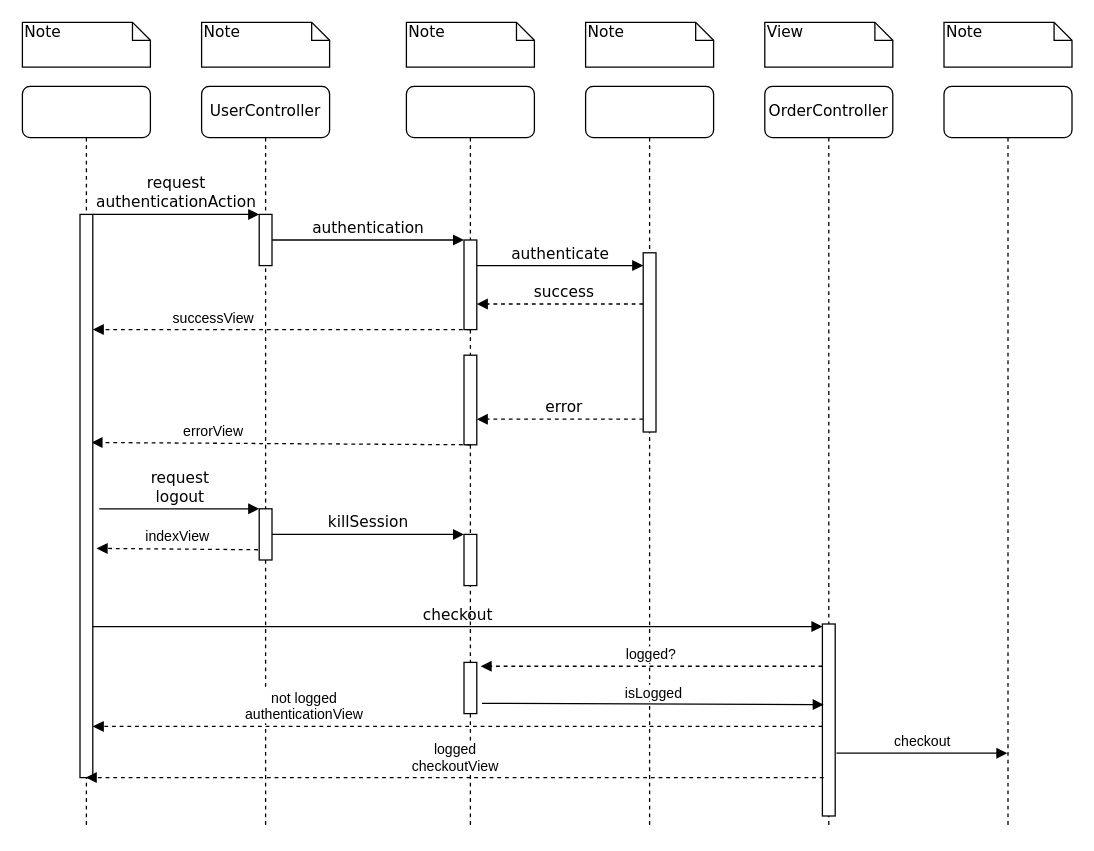
Image size: 1094x851. Some labels were removed from this diagram. Here are the shapes that lost their labels. From the top down, the box of each, then its label:
(21, 85, 150, 829): GUI
(405, 85, 534, 829): ISecurity
(584, 85, 714, 829): User
(943, 85, 1072, 829): Basket
